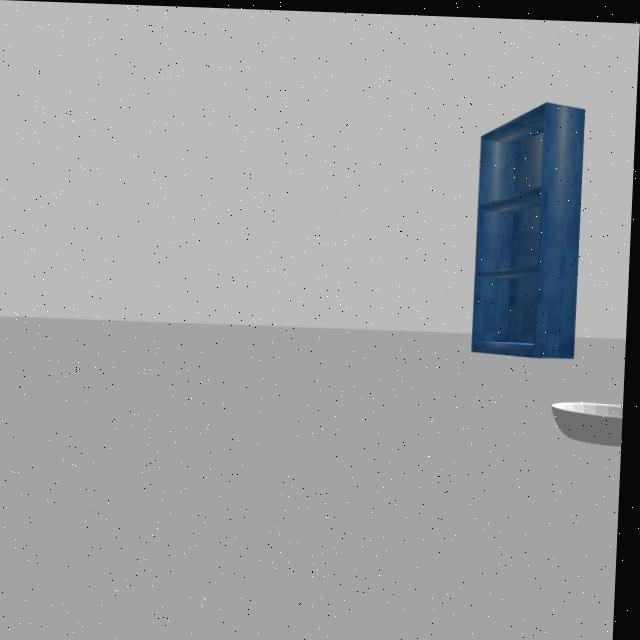bowl: (550, 391, 627, 453)
shelf: (467, 85, 602, 368)
